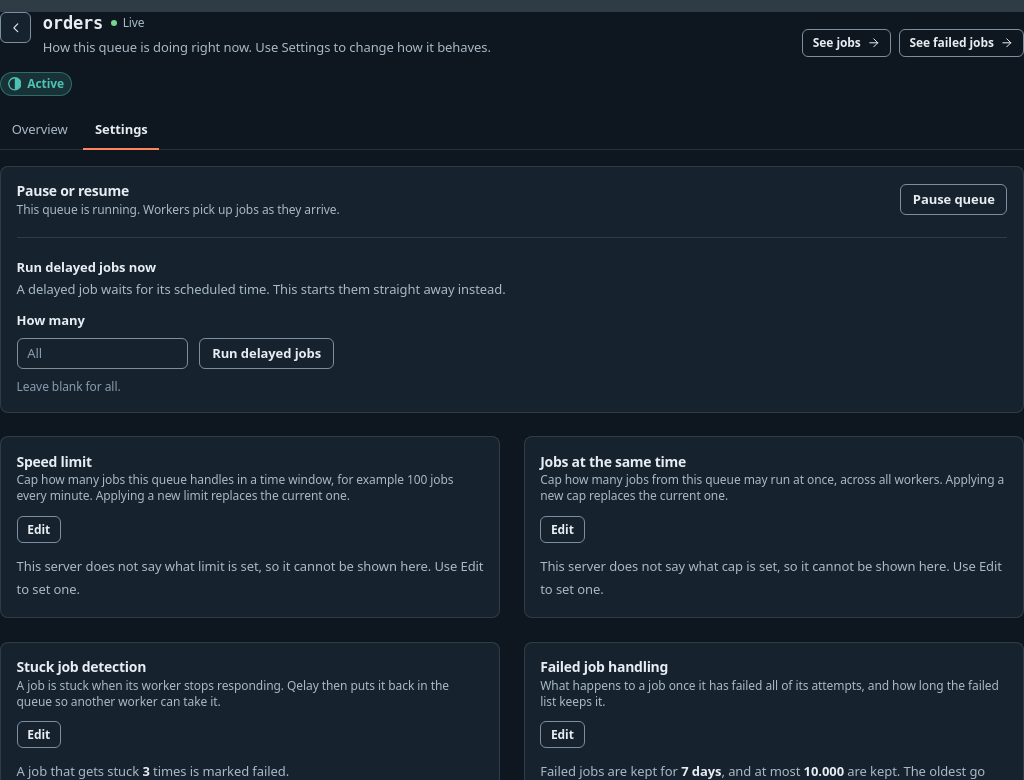
Scenario: QueueDetailPro mutation safety › a success with a negative count is an error, never a success
What coordinates should you click on to do the following:
click the button "Run delayed jobs"
I would click on:
 (267, 354)
Its box is [200, 338, 334, 369].
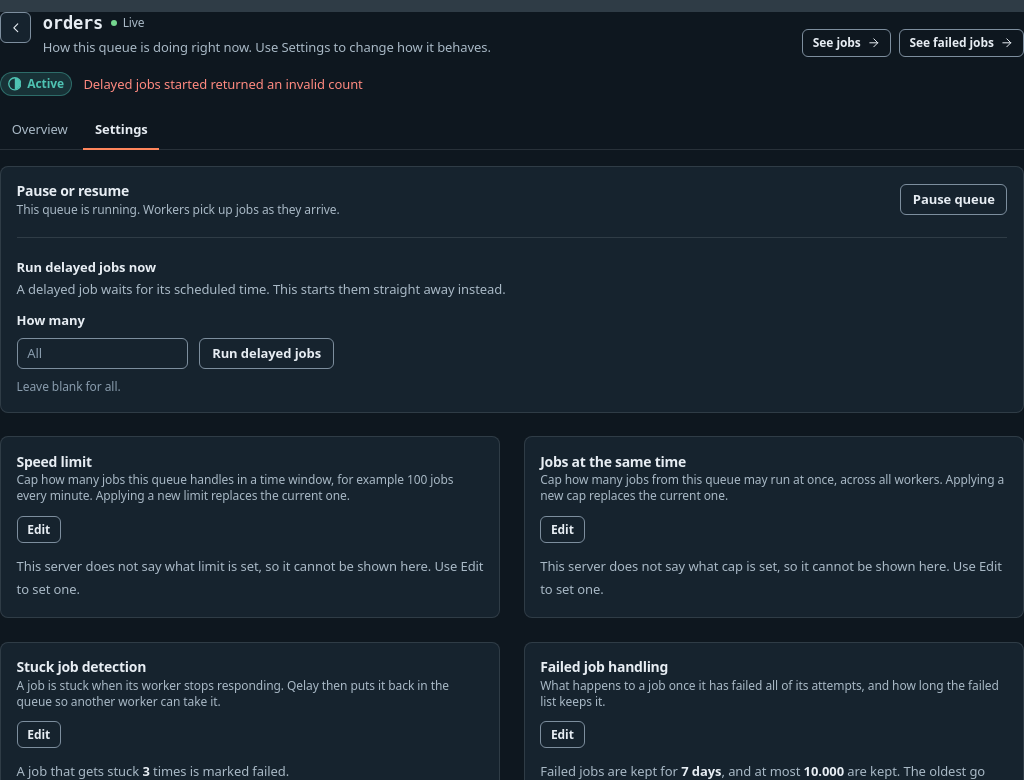
Expected: the text "returned an invalid count" is shown, [84, 75, 363, 93]
